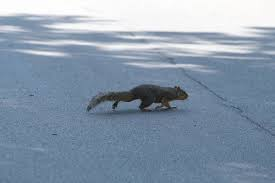squirrel: (83, 79, 190, 116)
